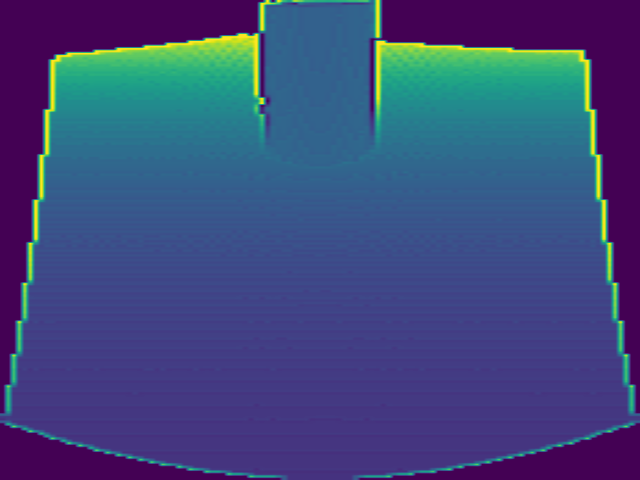cylinder: (256, 1, 383, 164)
